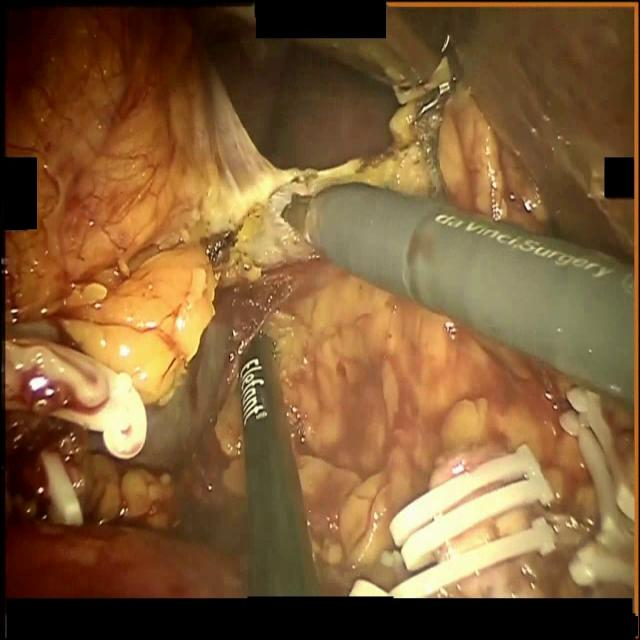surgical-area: (2, 0, 634, 599)
surgical-tool: (280, 180, 634, 403), (241, 332, 320, 597)
